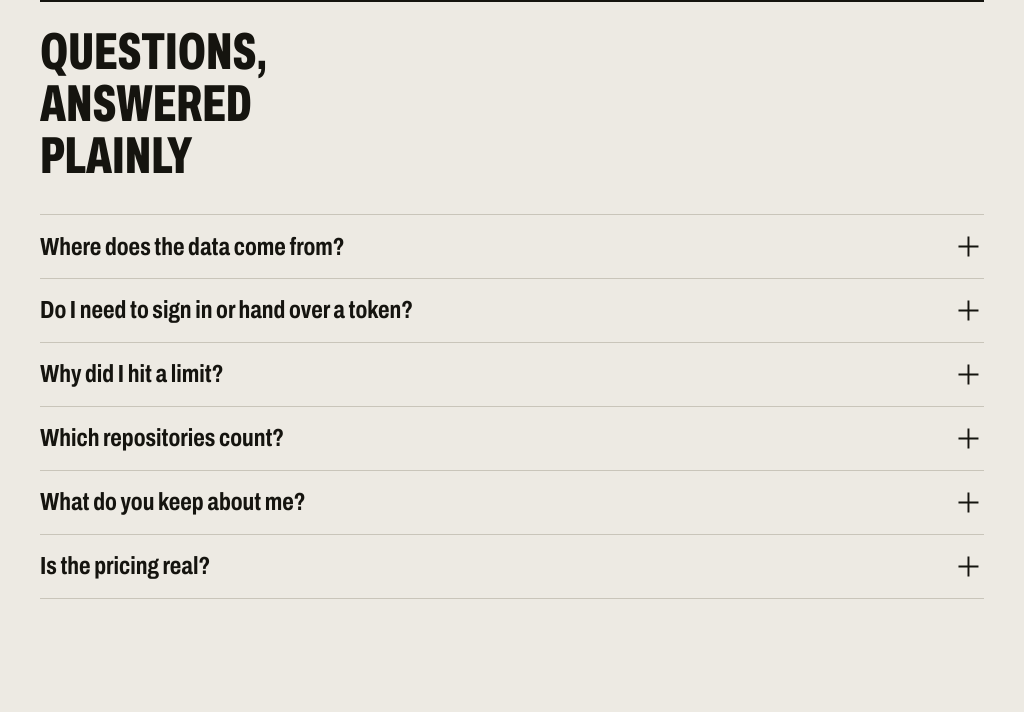
Test case: opening one answer leaves the others as they were
The width and height of the screenshot is (1024, 712).
What coordinates should you click on to do the following:
click the button "Where does the data come from?"
I would click on:
 (192, 246)
Its box is [40,215,984,278].
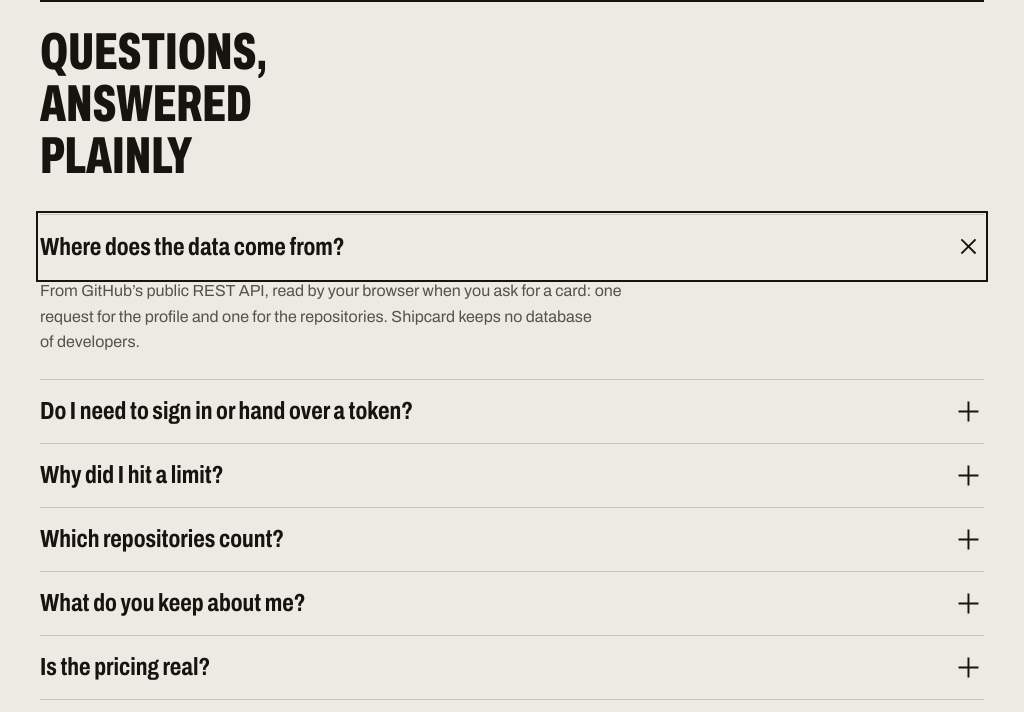
What coordinates should you click on to do the following:
click the button "Do I need to sign in or hand over a token?"
I would click on:
 (226, 411)
Its box is [40,380,984,443].
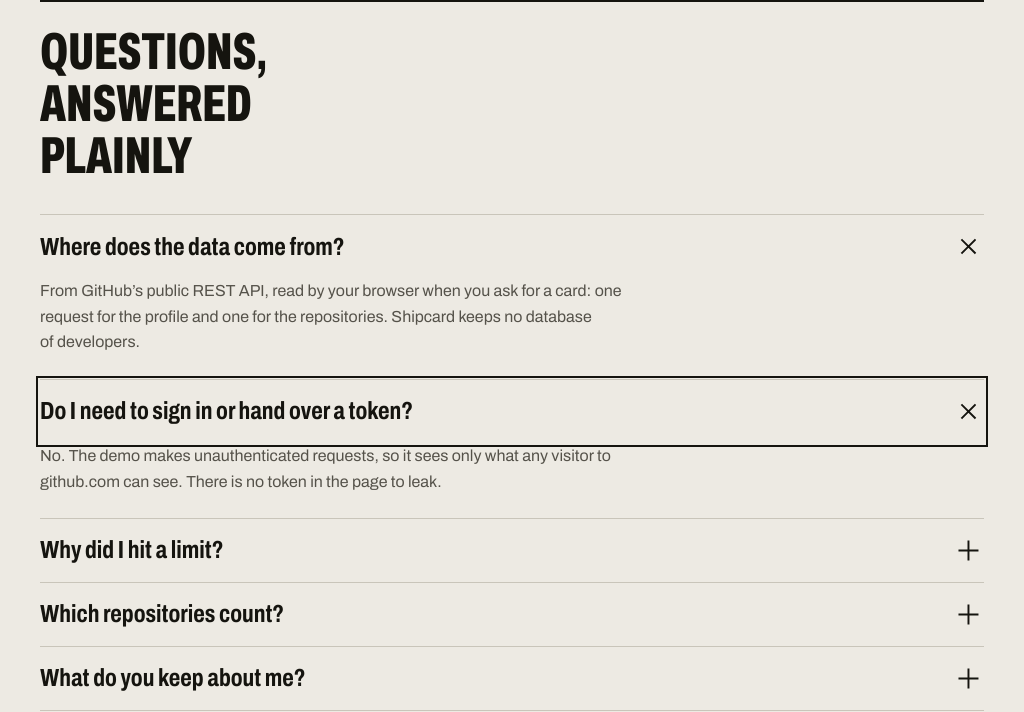
Now the text "No. The demo makes unauthenticated requests, so it sees only what any visitor to github.com can see. There is no token i" is shown, box [40,447,611,490]
